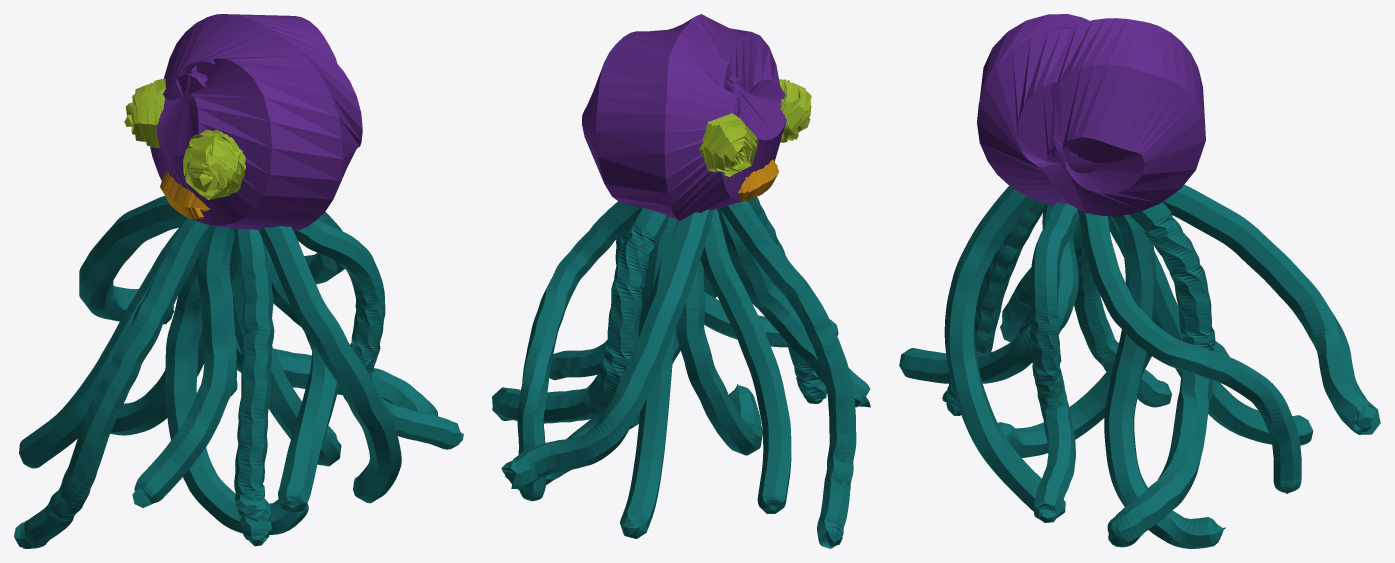
File: SquidSoldier.fbx
3 views of the same model, side by side, from view 1: azimuth 30°, elevation 25°; view 2: azimuth 150°, elevation 25°; view 3: azimuth 270°, elevation 25° (orthographic). The views are drawn at different scales.
Visible parts, largest first — view 1: Paint; view 2: Paint; view 3: Paint.
Part boxes in pixels (<box>): Paint: <box>14,14,463,548</box>; Paint: <box>492,14,870,548</box>; Paint: <box>899,14,1380,548</box>.
Bounding box in the file's own units: 1.08 × 1.29 × 1.18.
